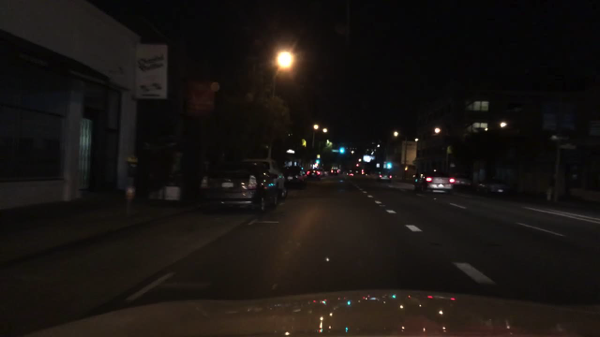car: (199, 161, 279, 212), (262, 160, 287, 197), (412, 171, 454, 193), (478, 176, 511, 195), (282, 165, 308, 189), (451, 176, 472, 191), (305, 169, 323, 181), (376, 172, 391, 182), (329, 169, 338, 175)
traffic light: (340, 145, 345, 153)
traffic sign: (551, 135, 571, 141)
